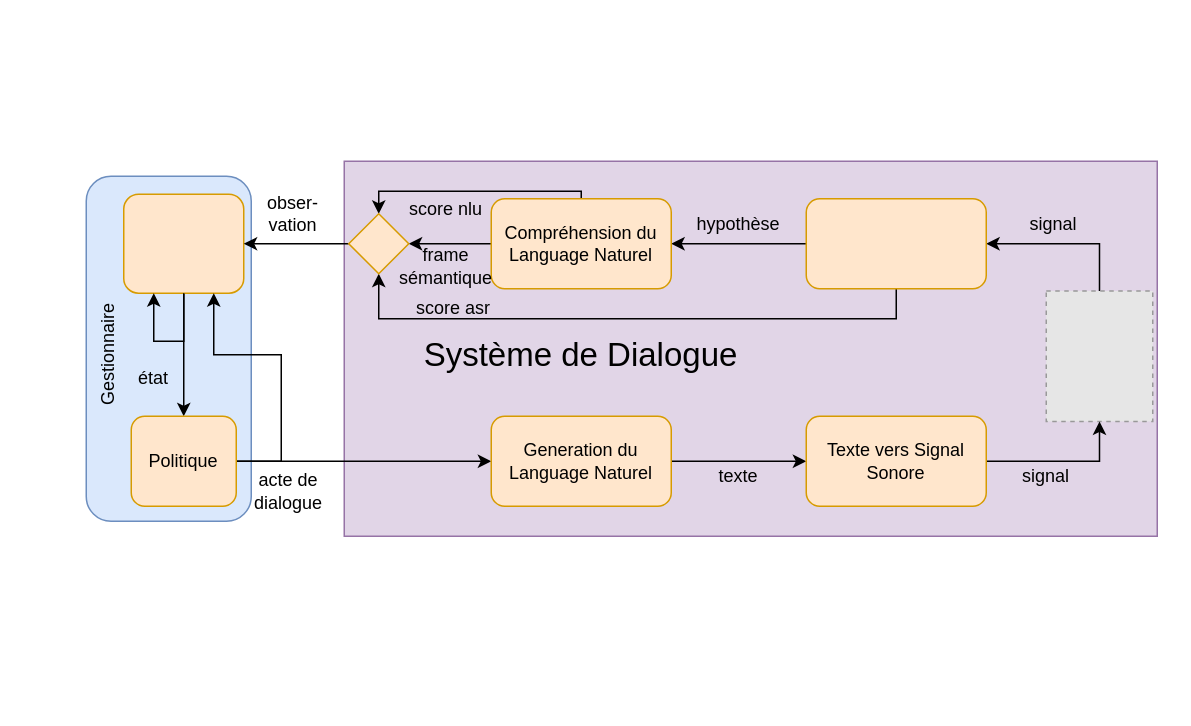
Some shapes in this 1191 by 726 pixel diagram are drawn without their labels. Grey dashed boxes stand in for pictures. Each missing label, with the centre of its shape:
Reconnaissance Automatique de la Parole: pixel 895 243
Trackeur: pixel 183 243
